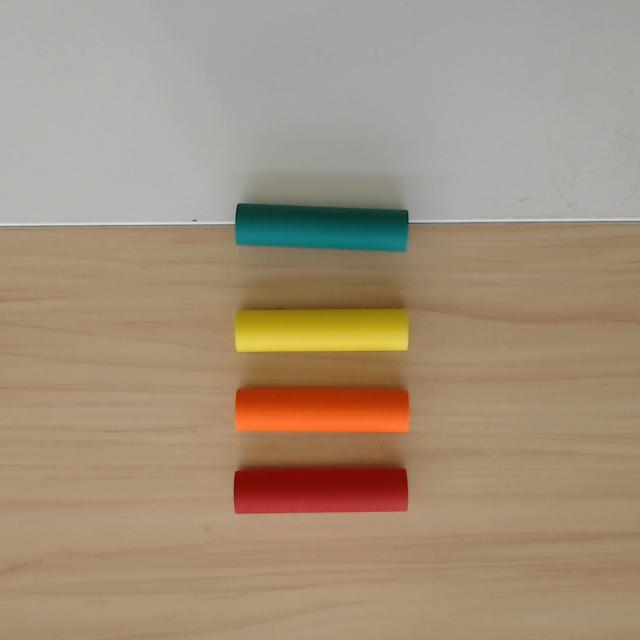Silinder-Hijau-10025: (235, 203, 409, 252)
Silinder-Jingga-10025: (236, 388, 409, 433)
Silinder-Kuning-10025: (235, 308, 409, 352)
Silinder-Merah-10025: (234, 466, 408, 514)
